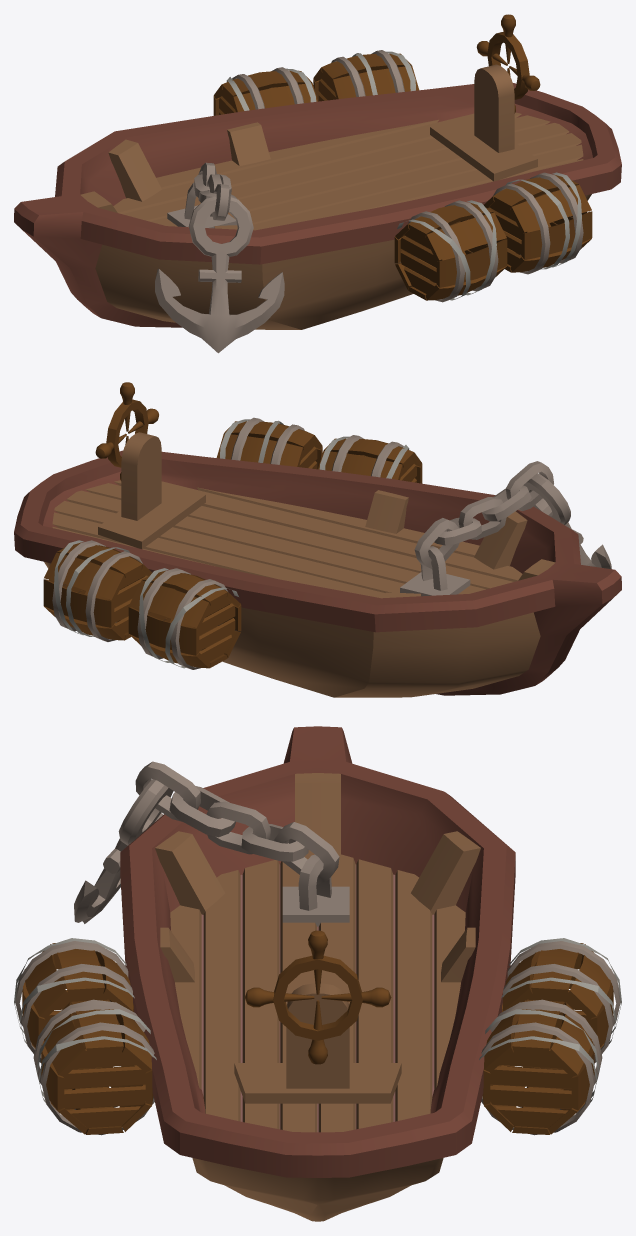
Rendered from pirate-sloop.glb.
3 renders of one model, top to bottom at view 1: azimuth 30°, elevation 25°; view 2: azimuth 150°, elevation 25°; view 3: azimuth 270°, elevation 25°, orthographic. The views are drawn at different scales.
Parts seen in each view (by area): view 1: pirate-sloop; view 2: pirate-sloop; view 3: pirate-sloop.
Part boxes in pixels (box(x1,y1,x2,y2)): pirate-sloop: box(14, 14, 621, 353); pirate-sloop: box(14, 382, 621, 697); pirate-sloop: box(14, 726, 621, 1221).
Size of the model in its own units: 5.4 by 2.09 by 3.78.
Materials: 1 (1 with a texture image).
